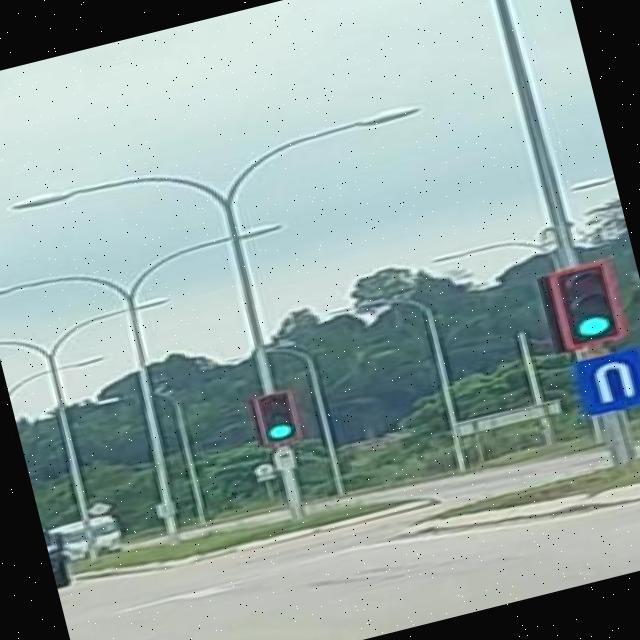green_light: (544, 256, 622, 348), (249, 388, 304, 450)
